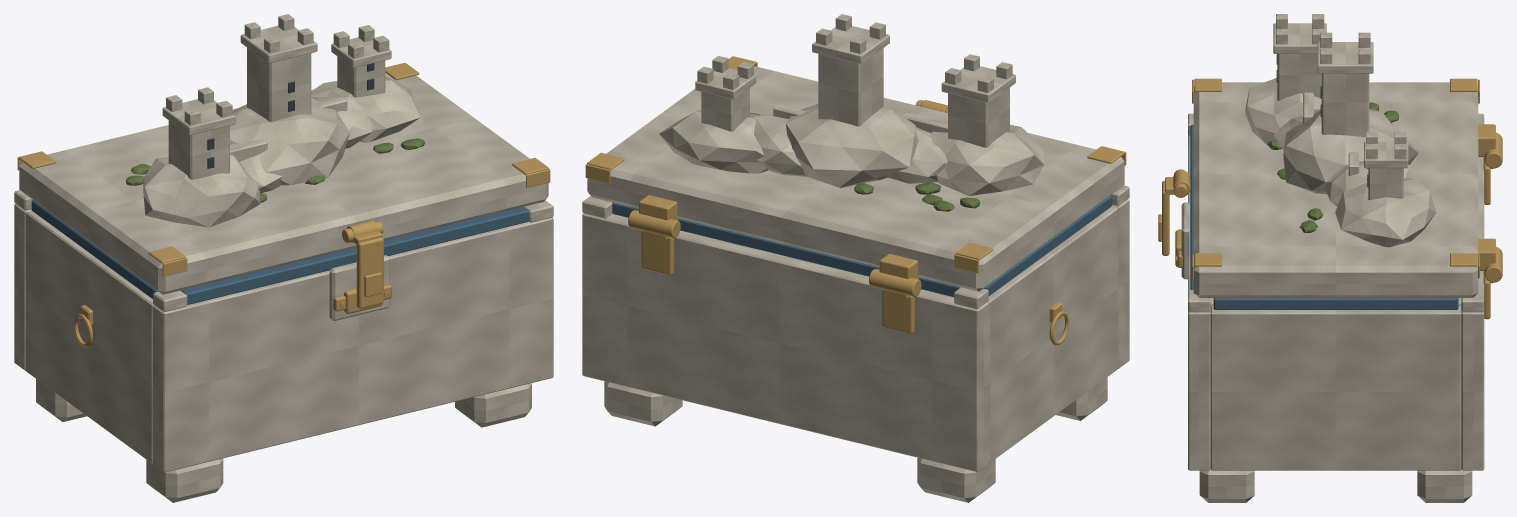
The model's file is san-marino.glb.
3 renders of one model, left to right at view 1: azimuth 30°, elevation 25°; view 2: azimuth 150°, elevation 25°; view 3: azimuth 270°, elevation 25°, orthographic. The views are drawn at different scales.
Parts seen in each view (by area): view 1: Stone body / long, Lid / polished slab, Stone body / side, Titano ridge / crag 1, Titano ridge / crag 0, Mineral seam / long, Tower 2 / keep, Titano ridge / crag 2, Tower 1 / keep, Stone foot, Stone foot.002, Stone body / long.001 (+10 smaller); view 2: Stone body / long.001, Lid / polished slab, Stone body / side, Titano ridge / crag 1, Titano ridge / crag 0, Titano ridge / crag 2, Tower 2 / keep, Mineral seam / long.001, Tower 1 / keep, Stone foot.001, Stone foot.003, Titano ridge / saddle 1 (+15 smaller); view 3: Lid / polished slab, Stone body / side.001, Titano ridge / crag 1, Titano ridge / crag 2, Stone body / long.001, Stone body / long, Tower 2 / keep, Mineral seam / side.001, Titano ridge / crag 0, Tower 1 / keep, Stone foot.002, Stone foot.003 (+18 smaller).
Part boxes in pixels (x1,y1,x2,y2): Stone body / long: (153,217,553,472); Lid / polished slab: (19,73,548,294); Stone body / side: (26,210,153,463); Titano ridge / crag 1: (230,98,349,185); Titano ridge / crag 0: (143,155,260,227); Mineral seam / long: (180,207,528,304); Tower 2 / keep: (247,47,311,121); Titano ridge / crag 2: (311,77,420,142); Tower 1 / keep: (168,120,229,179); Stone foot: (146,458,223,502); Stone foot.002: (455,383,531,427); Stone body / long.001: (14,203,31,370); Stone body / long.001: (582,213,988,471); Lid / polished slab: (587,66,1124,291); Stone body / side: (988,206,1117,463); Titano ridge / crag 1: (786,104,918,188); Titano ridge / crag 0: (930,124,1044,195); Titano ridge / crag 2: (659,110,767,173); Tower 2 / keep: (818,48,883,126); Mineral seam / long.001: (612,202,960,297); Tower 1 / keep: (948,88,1009,147); Stone foot.001: (917,458,995,502); Stone foot.003: (604,381,682,426); Titano ridge / saddle 1: (753,114,807,176); Lid / polished slab: (1193,82,1478,297); Stone body / side.001: (1210,305,1461,470); Titano ridge / crag 1: (1283,109,1418,194); Titano ridge / crag 2: (1335,178,1436,247); Stone body / long.001: (1461,157,1484,470); Stone body / long: (1188,135,1210,470); Tower 2 / keep: (1321,73,1369,136); Mineral seam / side.001: (1213,298,1458,309); Titano ridge / crag 0: (1245,78,1321,145); Tower 1 / keep: (1277,54,1321,100); Stone foot.002: (1199,469,1254,502); Stone foot.003: (1417,469,1472,502).
Size of the model in its own units: 3.79 by 3.47 by 2.88.
5 materials, 1 textured.
